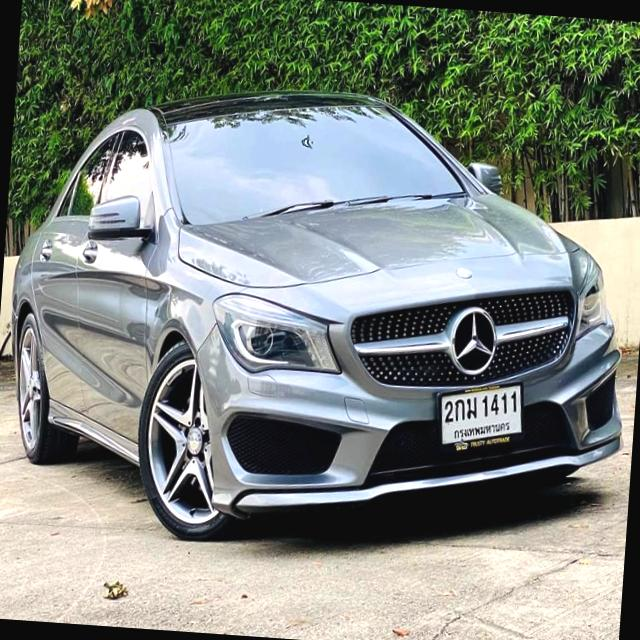license_plate: (429, 372, 528, 454)
